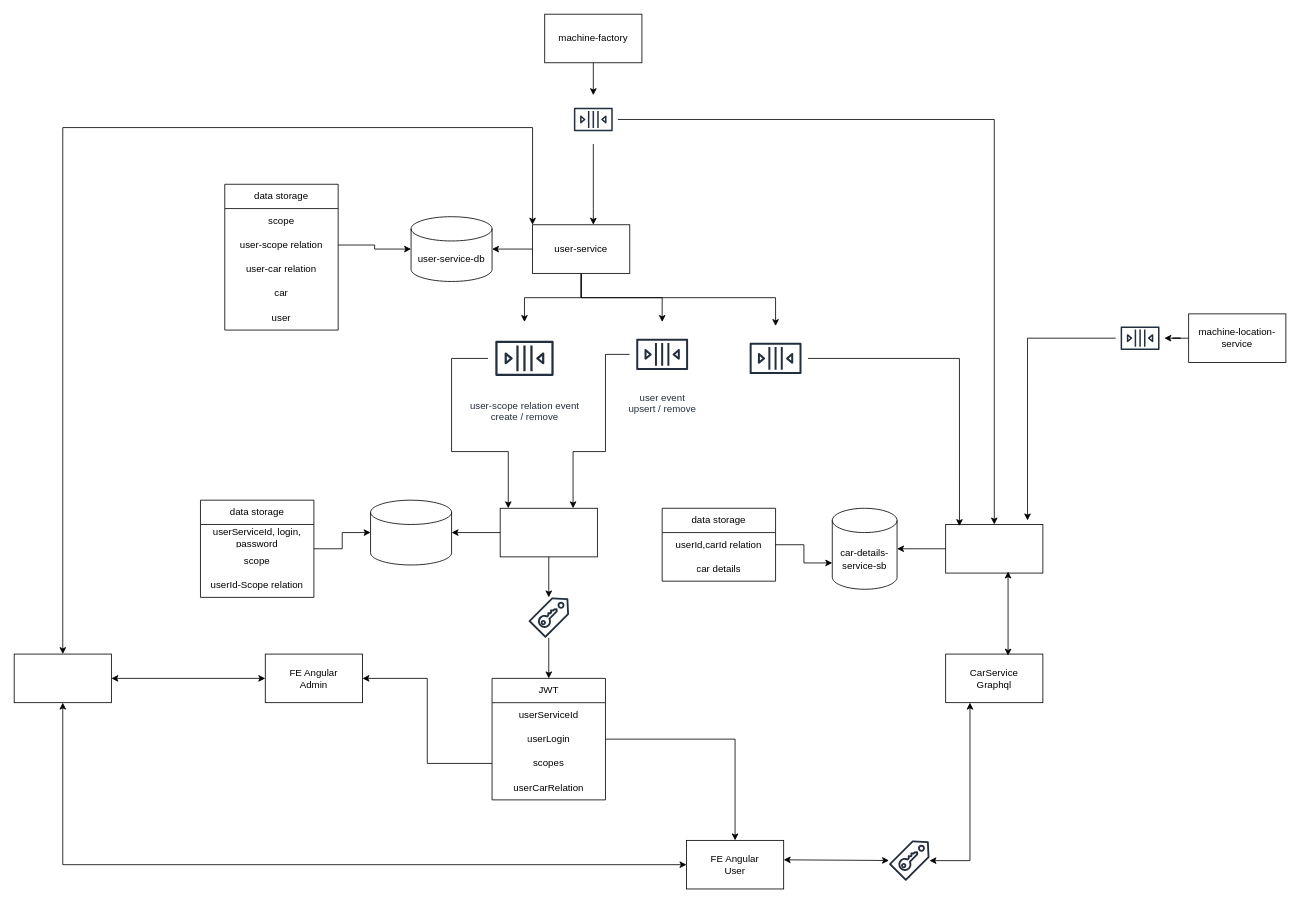
Some shapes in this 1300 by 903 pixel diagram are drawn without their labels. The centre of each missing label's shape, as x and y in pixels:
auth-service: [548,532]
auth-service-db: [411,532]
car-service-details: [994,548]
event location update: [1139,337]
event machine-create/delete: [593,119]
event user-machine relation create / remove: [775,358]
UserService Graphql: [62,678]
